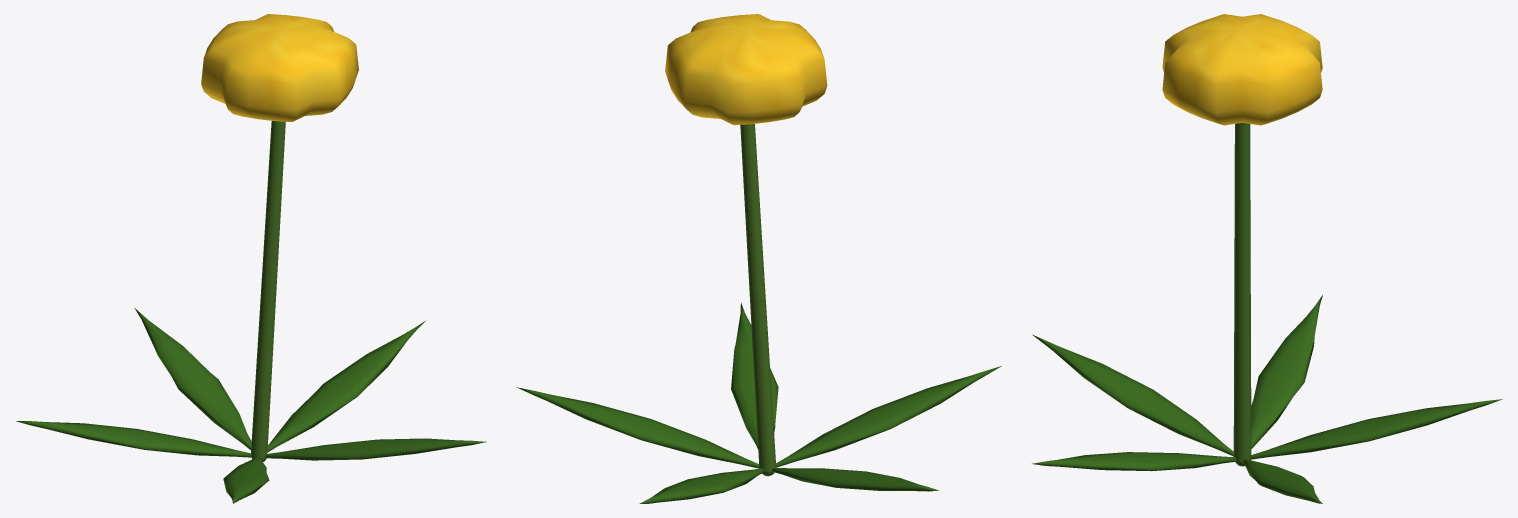
The model's file is Dandelion.glb.
3 renders of one model, left to right at view 1: azimuth 30°, elevation 25°; view 2: azimuth 150°, elevation 25°; view 3: azimuth 270°, elevation 25°, orthographic. The views are drawn at different scales.
Visible parts, largest first — view 1: BaseLeaves, Flower, Stem; view 2: BaseLeaves, Flower, Stem; view 3: BaseLeaves, Flower, Stem.
Boxes of the visible parts, x1=… form: BaseLeaves: x1=16, y1=307, x2=486, y2=503; Flower: x1=201, y1=14, x2=358, y2=121; Stem: x1=251, y1=121, x2=285, y2=461; BaseLeaves: x1=517, y1=302, x2=1001, y2=503; Flower: x1=665, y1=14, x2=827, y2=125; Stem: x1=740, y1=124, x2=775, y2=476; BaseLeaves: x1=1032, y1=295, x2=1502, y2=503; Flower: x1=1162, y1=14, x2=1322, y2=125; Stem: x1=1233, y1=122, x2=1251, y2=466.
Bounding box in the file's own units: 0.1965 × 0.1955 × 0.1869.
